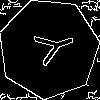Y: (24, 23, 79, 71)
